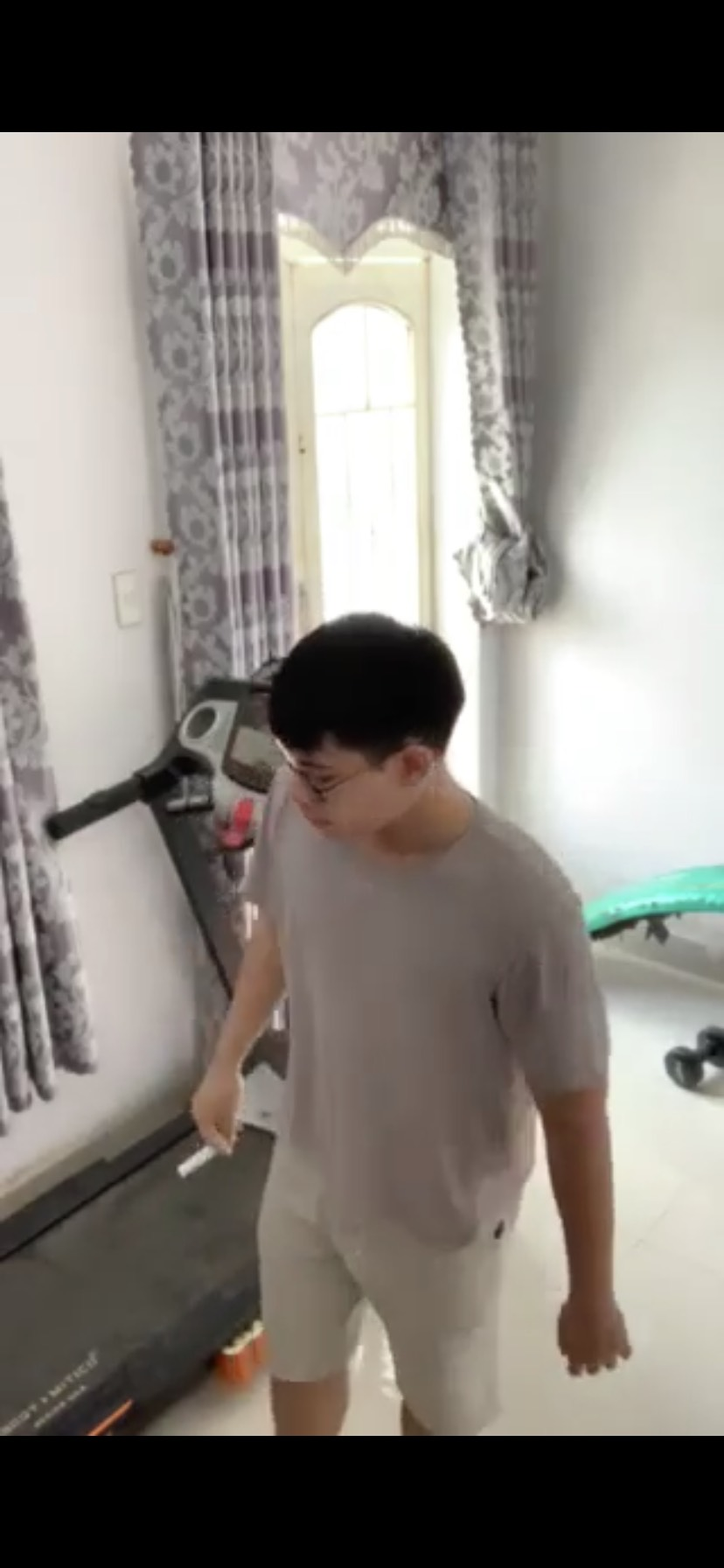cigarette: (164, 1132, 238, 1187)
person: (159, 594, 648, 1431)
